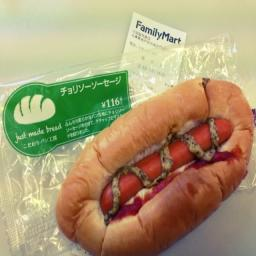hotdog: (53, 78, 256, 256)
